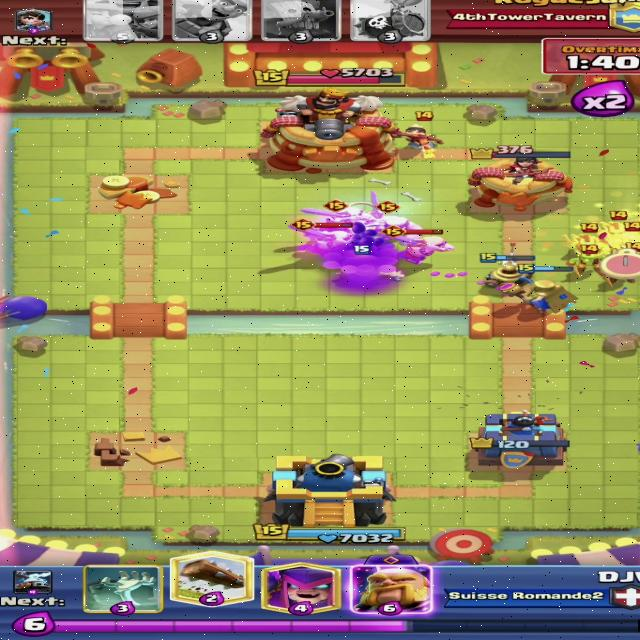Enemy-Barbarian-Evo: (381, 225, 456, 264), (290, 218, 356, 259), (300, 199, 371, 236), (369, 191, 421, 240)
Enemy-Goblin: (567, 244, 606, 274), (602, 260, 638, 288), (620, 242, 640, 274)
Enemy-Princess: (392, 111, 443, 159)
Enemy-SpearGoblin: (562, 223, 607, 258), (598, 210, 636, 249)
Player-Motherwitch: (498, 264, 580, 315)
Player-PEKKA: (349, 0, 427, 44)
Player-Zappy: (479, 252, 536, 290)
